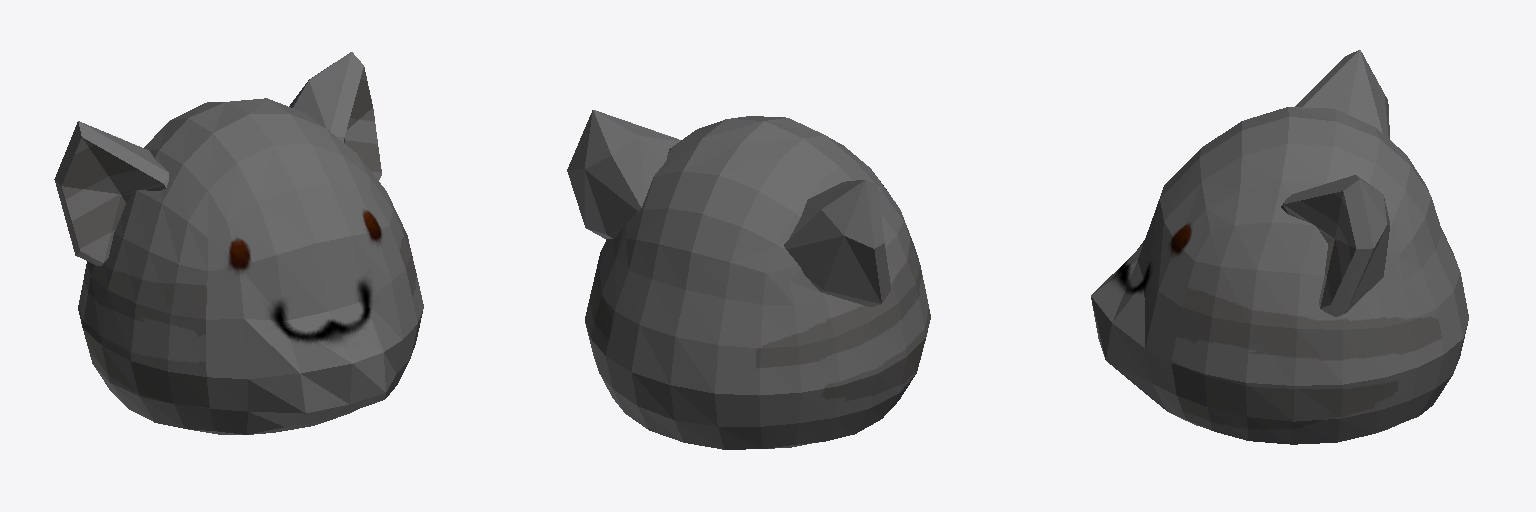
The picture shows the model from 3 angles: view 1: azimuth 30°, elevation 25°; view 2: azimuth 150°, elevation 25°; view 3: azimuth 270°, elevation 25°; orthographic projection.
Visible parts, largest first — view 1: tabby_slime_Mesh_0000; view 2: tabby_slime_Mesh_0000; view 3: tabby_slime_Mesh_0000.
Part boxes in pixels (x1,y1,x2,y2): tabby_slime_Mesh_0000: (54,52,423,434); tabby_slime_Mesh_0000: (567,110,930,449); tabby_slime_Mesh_0000: (1091,50,1468,444).
Size of the model in its own units: 19.61 by 17.17 by 20.67.
Materials: 3 (3 with a texture image).